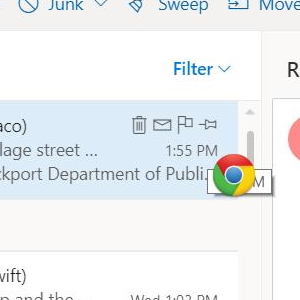chrome: (212, 153, 256, 197)
